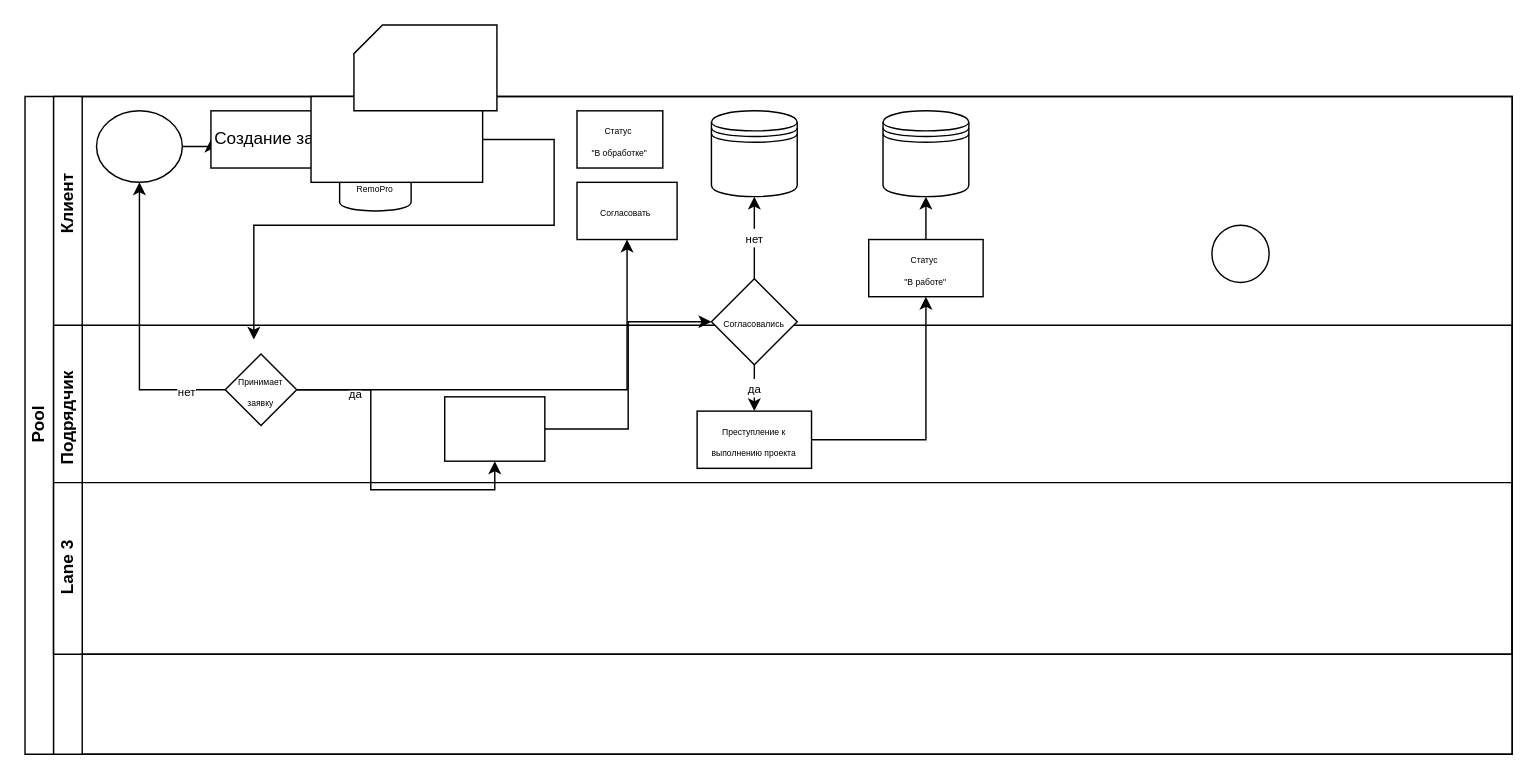
Some shapes in this 1537 by 779 pixel diagram are drawn without their labels. The box of each missing label's shape, as (x1, y1, x2, y2) in pixels:
1. описание 2. категория: (352, 24, 497, 111)
Направить на рассмотрение: (310, 95, 483, 182)
Обсуждение важных моментов: (443, 395, 545, 461)
Отклоненные заявки: (710, 109, 797, 197)
Проекты: (882, 109, 969, 197)
Решение сделать ремонт: (95, 109, 182, 182)
